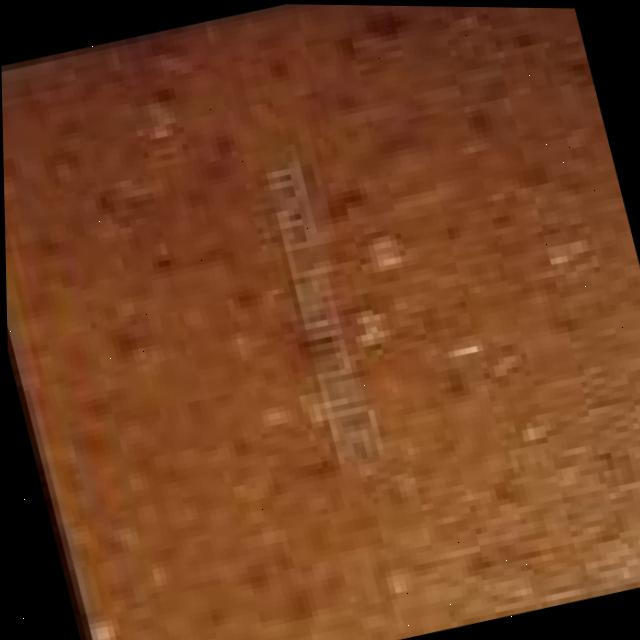Melasma: (0, 0, 523, 494)
